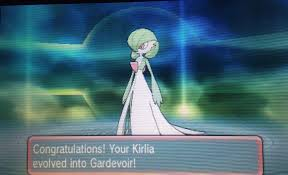gardevoir: (109, 30, 205, 140)
